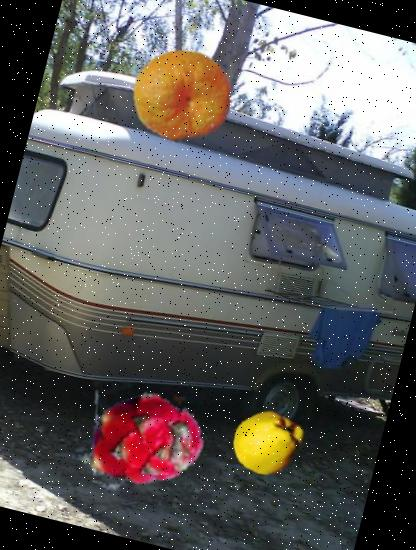Mandarine: (121, 36, 243, 158)
Pitahaya: (58, 362, 219, 524)
Quince: (225, 399, 312, 486)
